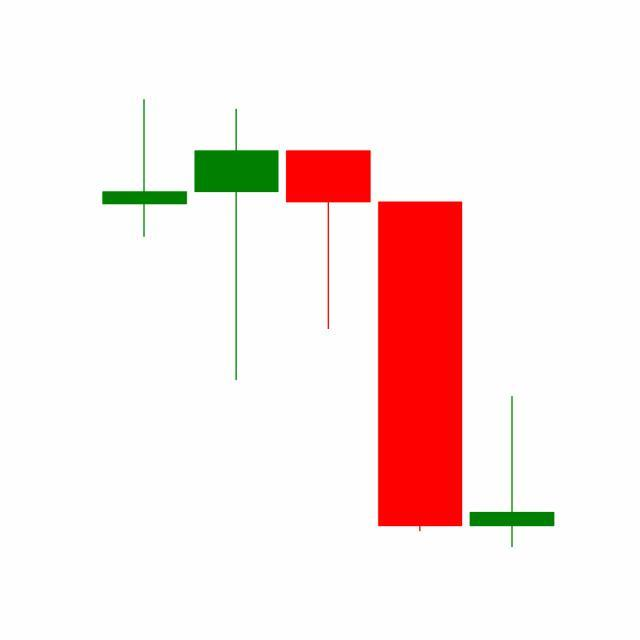Spinning Top: (466, 394, 559, 549)
